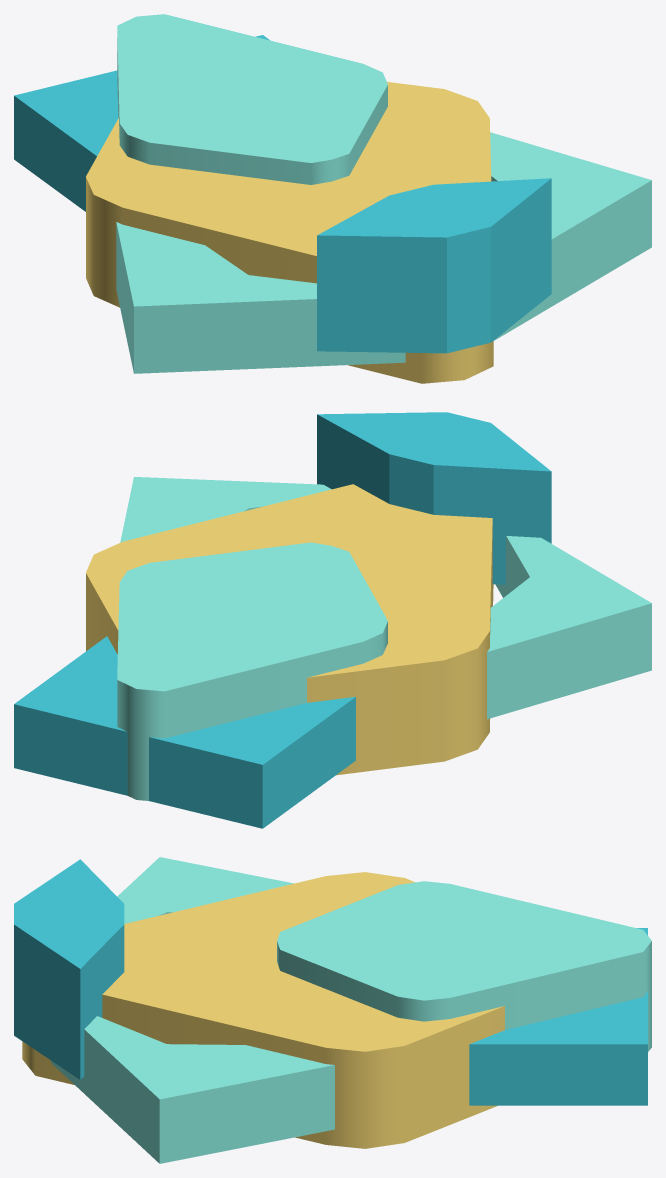
File: port25.gltf
3 views of the same model, one above another, from view 1: azimuth 30°, elevation 25°; view 2: azimuth 150°, elevation 25°; view 3: azimuth 270°, elevation 25° (orthographic). The views are drawn at different scales.
Visible parts, largest first — view 1: polySurface254; view 2: polySurface254; view 3: polySurface254.
Boxes of the visible parts, x1,y1,x2,y2 form: polySurface254: (14,14,651,383); polySurface254: (14,412,651,828); polySurface254: (14,857,651,1163).
Size of the model in its own units: 0.3394 by 0.0946 by 0.3775.
